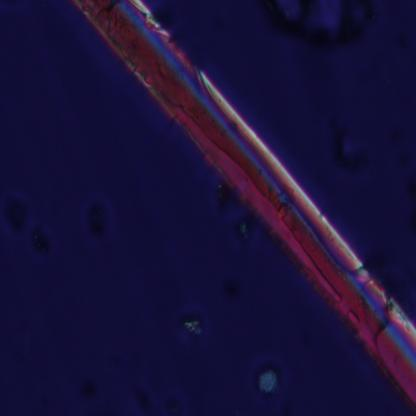Microfibre: (68, 0, 416, 408)
